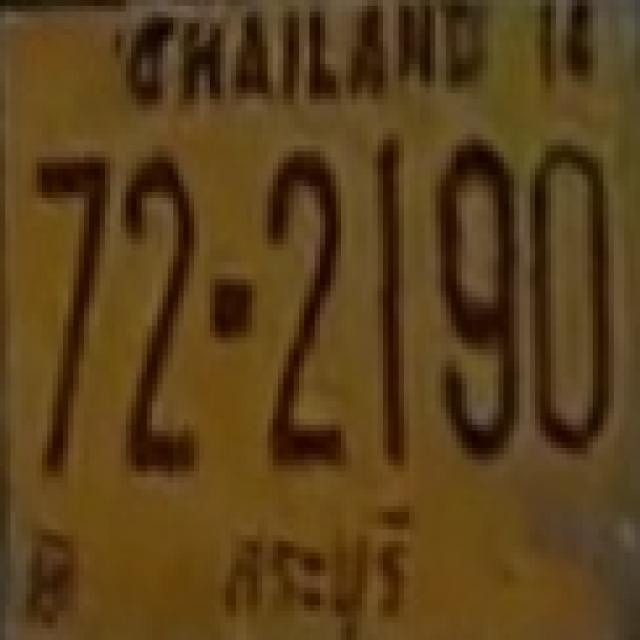0: (534, 121, 624, 483)
1: (370, 133, 418, 488)
2: (254, 132, 356, 486), (116, 144, 212, 494)
7: (22, 144, 117, 484)
9: (429, 137, 527, 476)
SRI: (201, 488, 431, 640)
